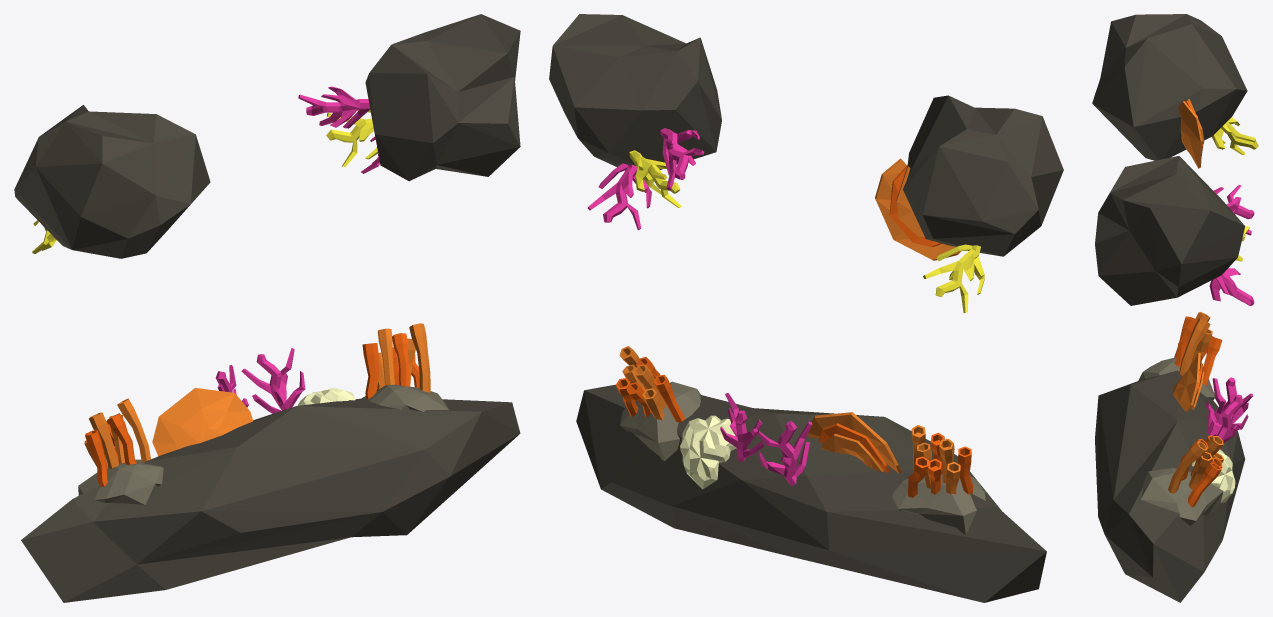
File: TPieceCoral.FBX
3 renders of one model, left to right at view 1: azimuth 30°, elevation 25°; view 2: azimuth 150°, elevation 25°; view 3: azimuth 270°, elevation 25°, orthographic. The views are drawn at different scales.
Parts seen in each view (by area): view 1: TPieceCoral; view 2: TPieceCoral; view 3: TPieceCoral.
Boxes of the visible parts, x1,y1,x2,y2 form: TPieceCoral: (14,14,520,602); TPieceCoral: (549,14,1063,602); TPieceCoral: (1092,14,1258,602).
Size of the model in its own units: 114 by 105 by 36.21.
